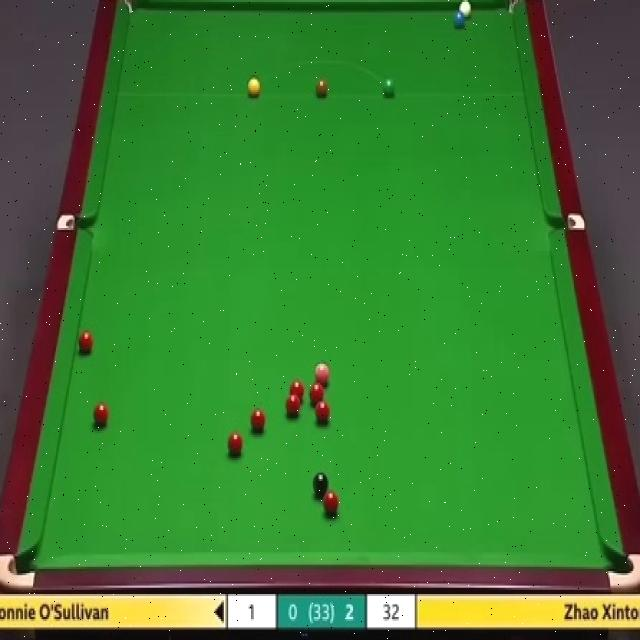black-ball: (312, 471, 328, 495)
blue-ball: (453, 11, 464, 29)
brown-ball: (316, 77, 329, 98)
green-ball: (382, 78, 396, 100)
pink-ball: (314, 362, 330, 389)
red-ball: (226, 430, 244, 457), (308, 380, 325, 406), (77, 330, 94, 355), (290, 379, 305, 406), (316, 399, 330, 427), (322, 490, 338, 514), (250, 407, 265, 432), (94, 402, 108, 426), (286, 394, 300, 415)
white-ball: (460, 0, 470, 18)
yellow-ball: (246, 77, 261, 98)
